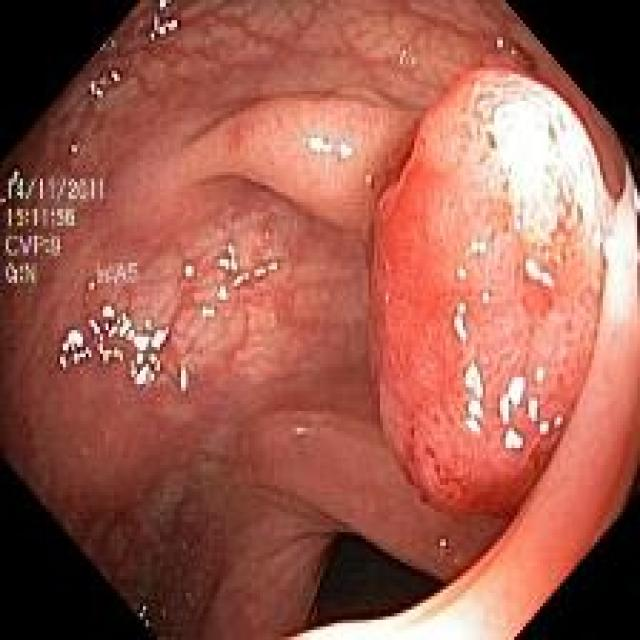Polyps: (371, 69, 615, 514)
